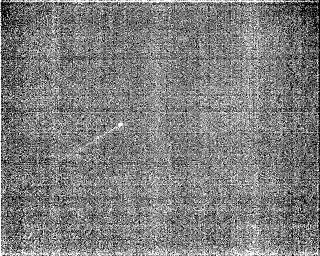AIRPLANE: (71, 121, 125, 163)
